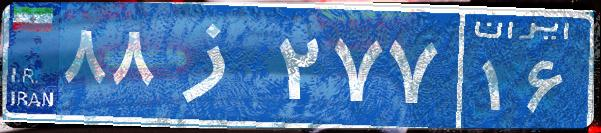1: (475, 38, 525, 113)
2: (273, 28, 330, 110)
6: (525, 38, 570, 115)
7: (385, 28, 445, 110), (330, 28, 385, 110)
8: (57, 26, 110, 107), (110, 28, 158, 105)
ز: (158, 15, 273, 115)
